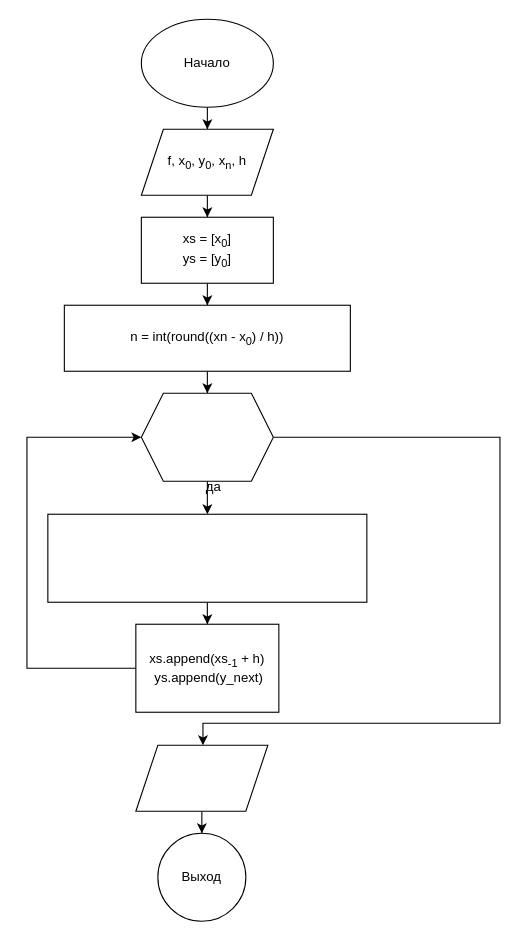
The diagram is 528 pixels wide and 941 high, and some of its shapes have lost their labels. The shapes that lost their labels are listed below. From the top down, each one's box as (x1, y1, x2, y2) in pixels, then its label:
(140, 392, 273, 481): i = 0, n-1
(47, 513, 367, 602): y_next = ys -1 + h * f(xs -1 , ys -1 )
(135, 744, 268, 811): xs, ys
